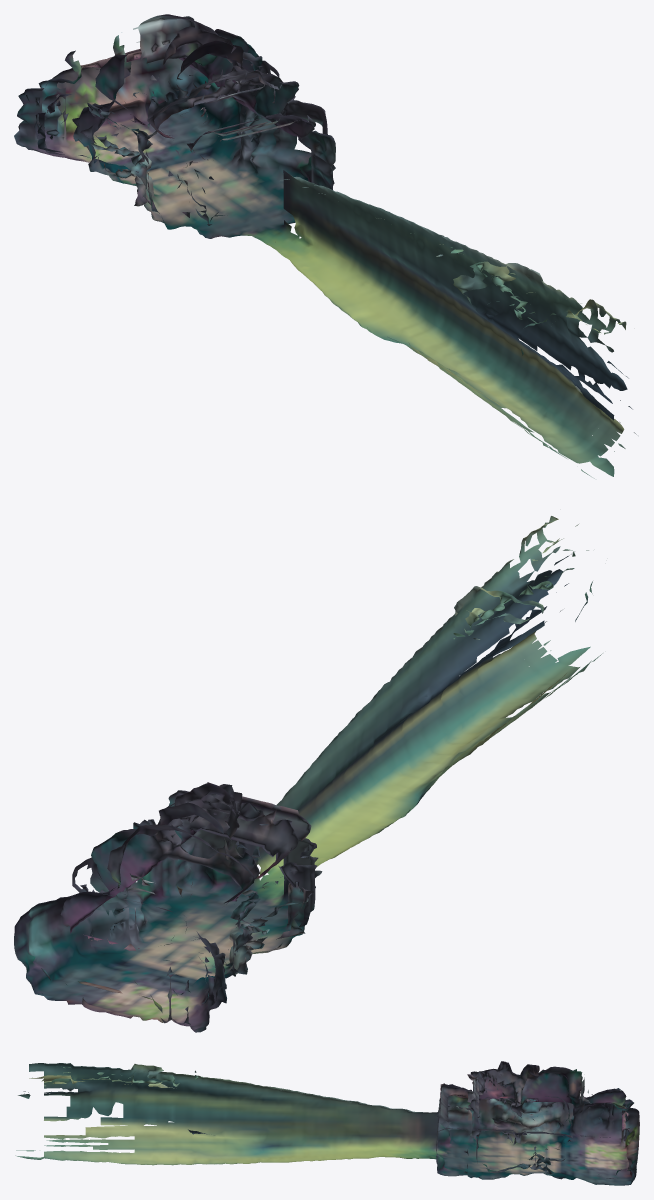
File: Sunlit Greenhouse Workshop Haven_collider-Original.glb
3 views of the same model, one above another, from view 1: azimuth 30°, elevation 25°; view 2: azimuth 150°, elevation 25°; view 3: azimuth 270°, elevation 25° (orthographic). The views are drawn at different scales.
Parts seen in each view (by area): view 1: world; view 2: world; view 3: world.
Part boxes in pixels (x1=…): world: x1=14, y1=14, x2=636, y2=478; world: x1=14, y1=516, x2=602, y2=1032; world: x1=15, y1=1061, x2=639, y2=1185.
Bounding box in the file's own units: 5.17 × 4.05 × 22.93.
